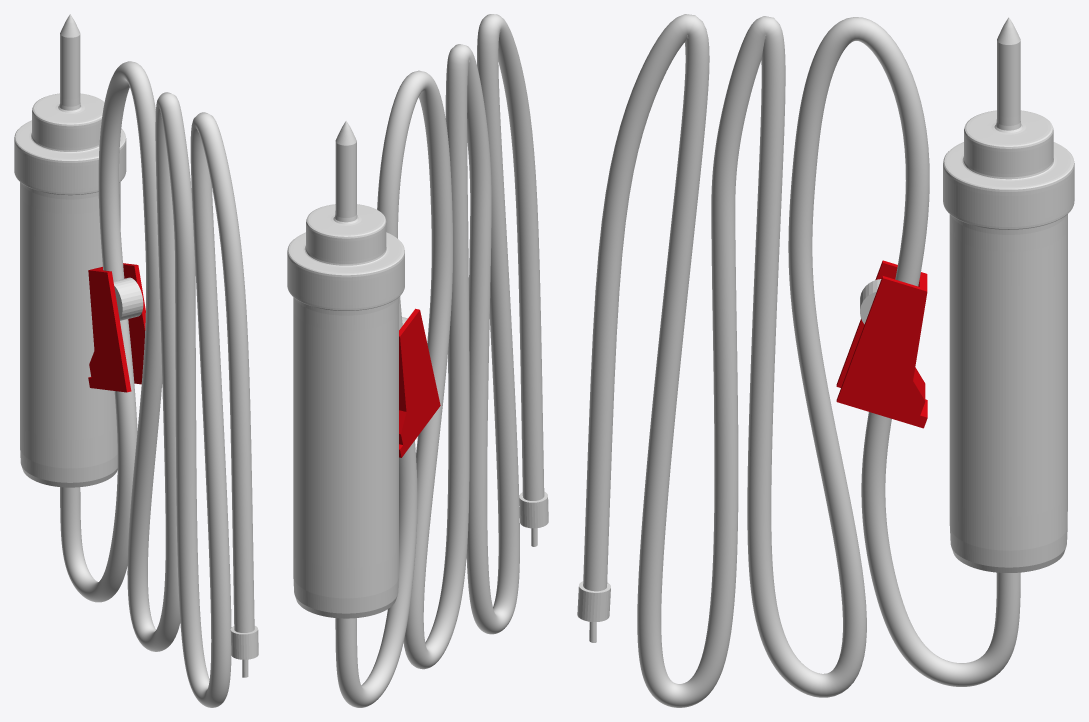
The model's file is infusion line.fbx.
The picture shows the model from 3 angles, left to right: view 1: azimuth 30°, elevation 25°; view 2: azimuth 150°, elevation 25°; view 3: azimuth 270°, elevation 25°; orthographic projection. The views are drawn at different scales.
Parts seen in each view (by area): view 1: NurbsPath, Cylinder.002, Cylinder.001, Cube.002; view 2: NurbsPath, Cylinder.002, Cylinder.001, Cube.002; view 3: NurbsPath, Cylinder.002, Cylinder.001, Cube.002.
Part boxes in pixels (x1=…): NurbsPath: x1=60, y1=61, x2=254, y2=707; Cylinder.002: x1=20, y1=182, x2=258, y2=677; Cylinder.001: x1=14, y1=14, x2=143, y2=320; Cube.002: x1=88, y1=263, x2=145, y2=392; NurbsPath: x1=335, y1=14, x2=544, y2=707; Cylinder.002: x1=293, y1=297, x2=548, y2=618; Cylinder.001: x1=287, y1=121, x2=407, y2=325; Cube.002: x1=399, y1=308, x2=440, y2=457; NurbsPath: x1=583, y1=14, x2=1020, y2=707; Cylinder.002: x1=577, y1=214, x2=1067, y2=642; Cylinder.001: x1=860, y1=17, x2=1074, y2=324; Cube.002: x1=836, y1=260, x2=927, y2=428.
Bounding box in the file's own units: 221 × 1283 × 836.
